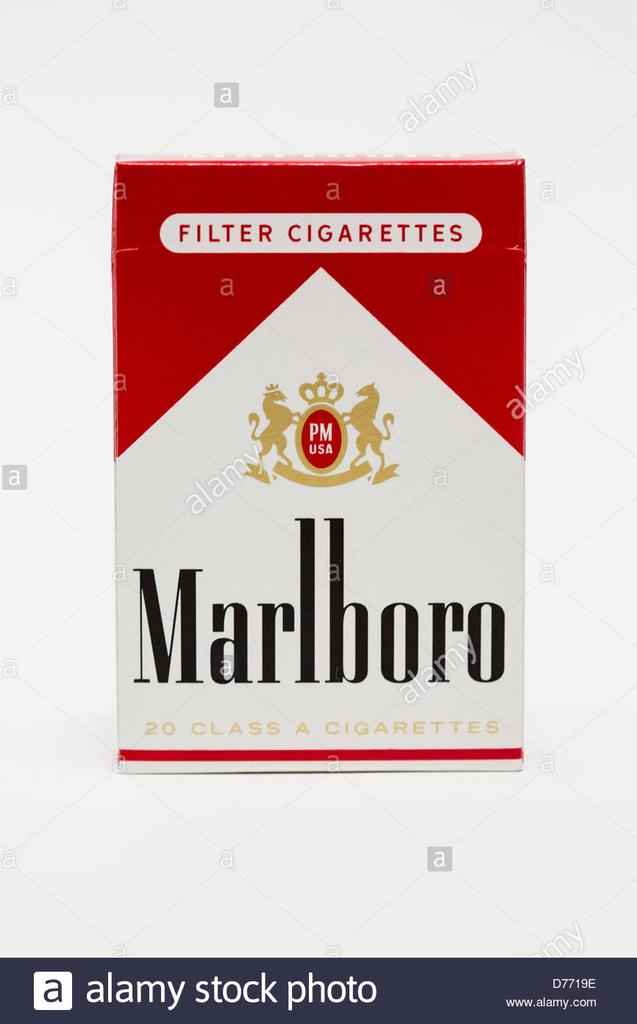marlboro_red: (119, 165, 528, 773)
